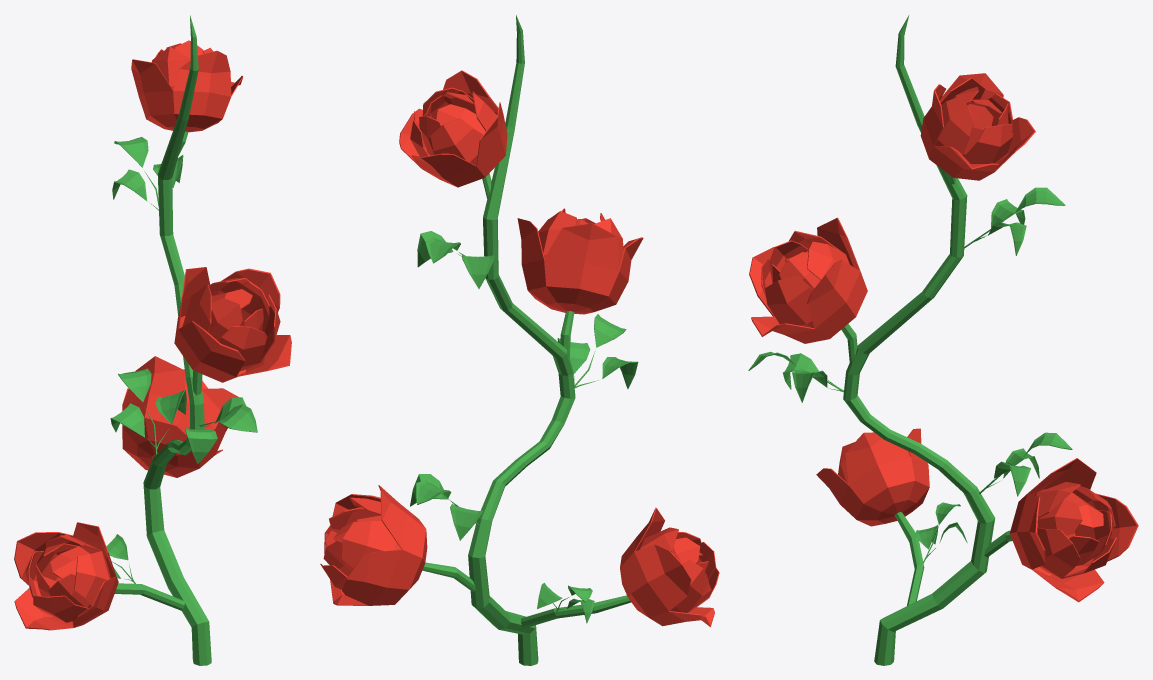
The model's file is rose3.glb.
3 views of the same model, side by side, from view 1: azimuth 30°, elevation 25°; view 2: azimuth 150°, elevation 25°; view 3: azimuth 270°, elevation 25° (orthographic). The views are drawn at different scales.
Parts seen in each view (by area): view 1: Rose_bush_Circle.006; view 2: Rose_bush_Circle.006; view 3: Rose_bush_Circle.006.
Part boxes in pixels (box(x1,y1,x2,y2)): Rose_bush_Circle.006: box(14, 15, 291, 665); Rose_bush_Circle.006: box(320, 15, 719, 665); Rose_bush_Circle.006: box(748, 15, 1138, 665).
Size of the model in its own units: 6.97 by 14.56 by 7.95.
